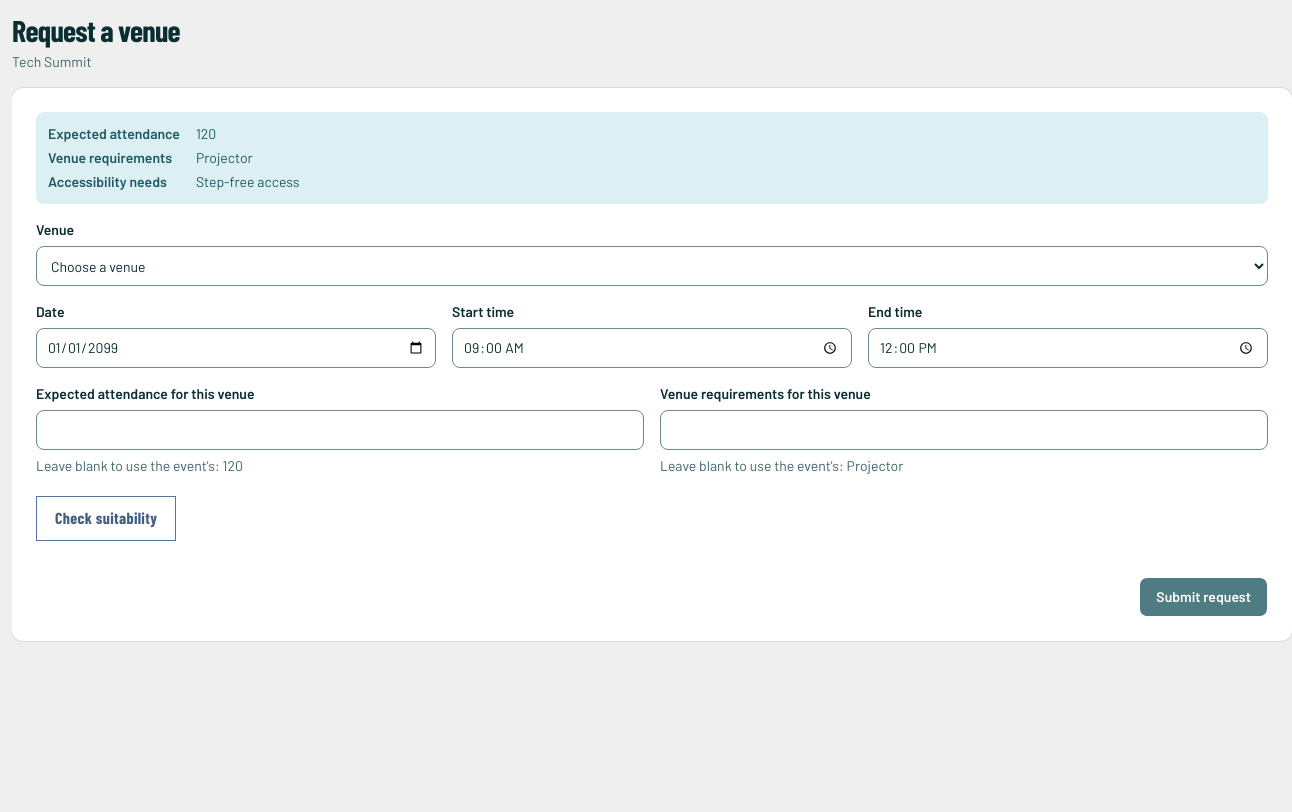
Scenario: SCRUM-98/AC2 the venue booking's own attendance and requirements (98-S6, 98-S7, 98-S12) › 98-S12 an attendance of 0 shows the shared error and is not sent
Select "Grand Hall (capacity 200)" in the dropdown labelled "Venue". click: (652, 266)
box: [36,246,1268,286]
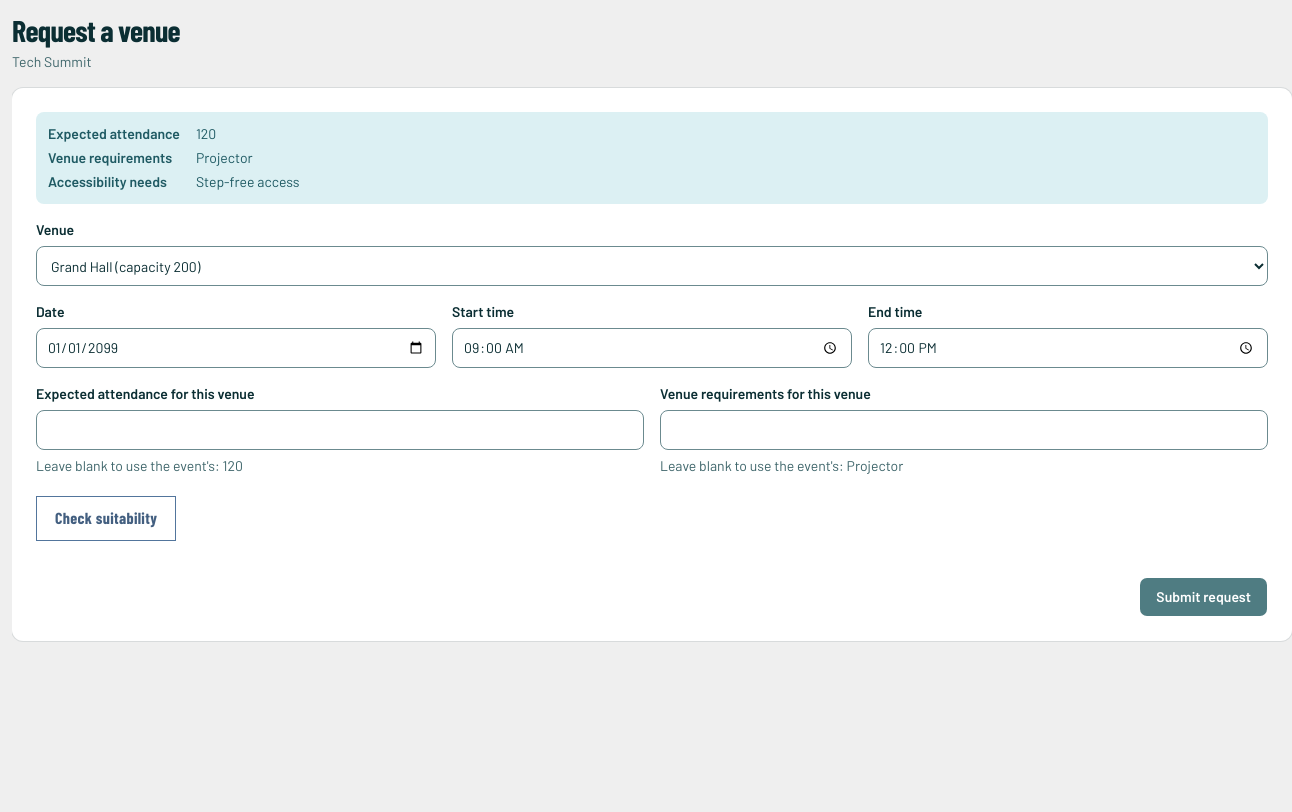
Type "0" into the number field labelled "Expected attendance for this venue". click: (340, 430)
box: [36,410,644,450]
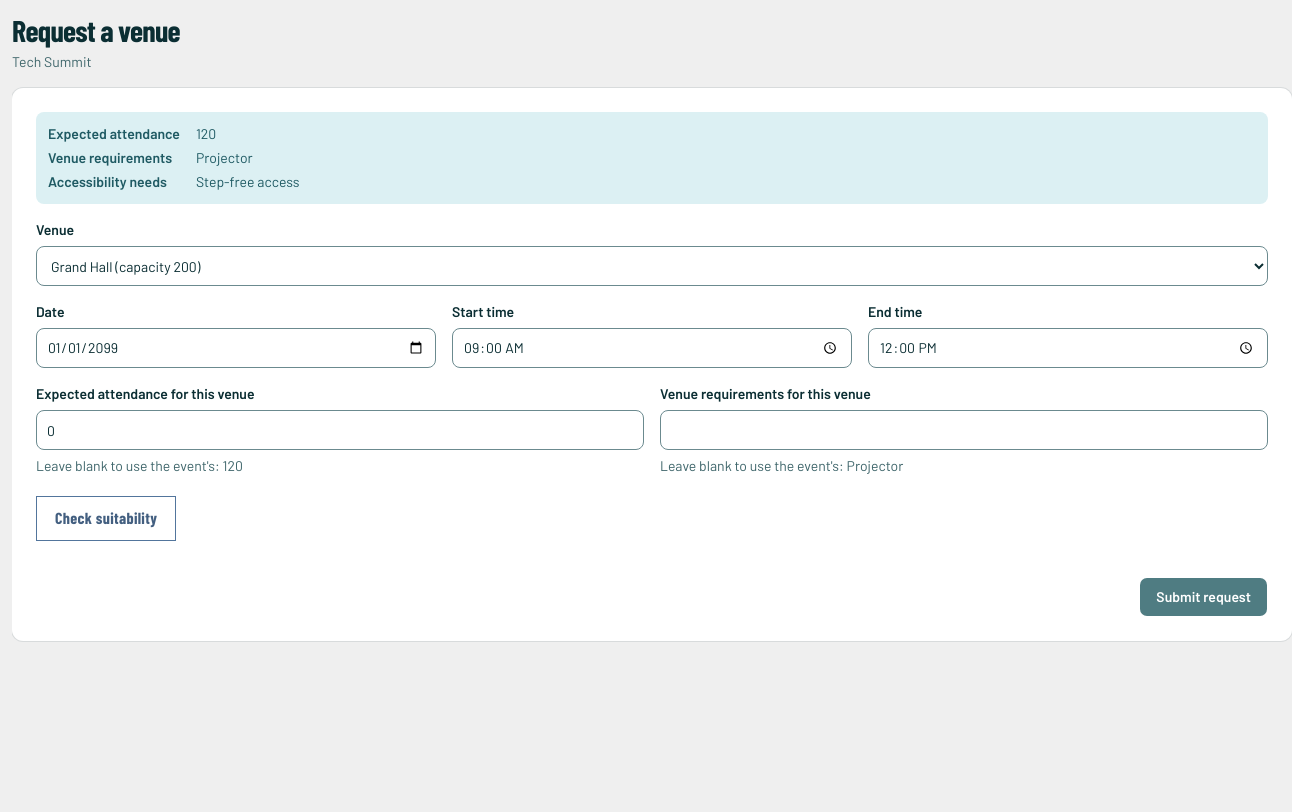
Click the button "Submit request". click: (1204, 597)
box: [1139,577,1268,617]
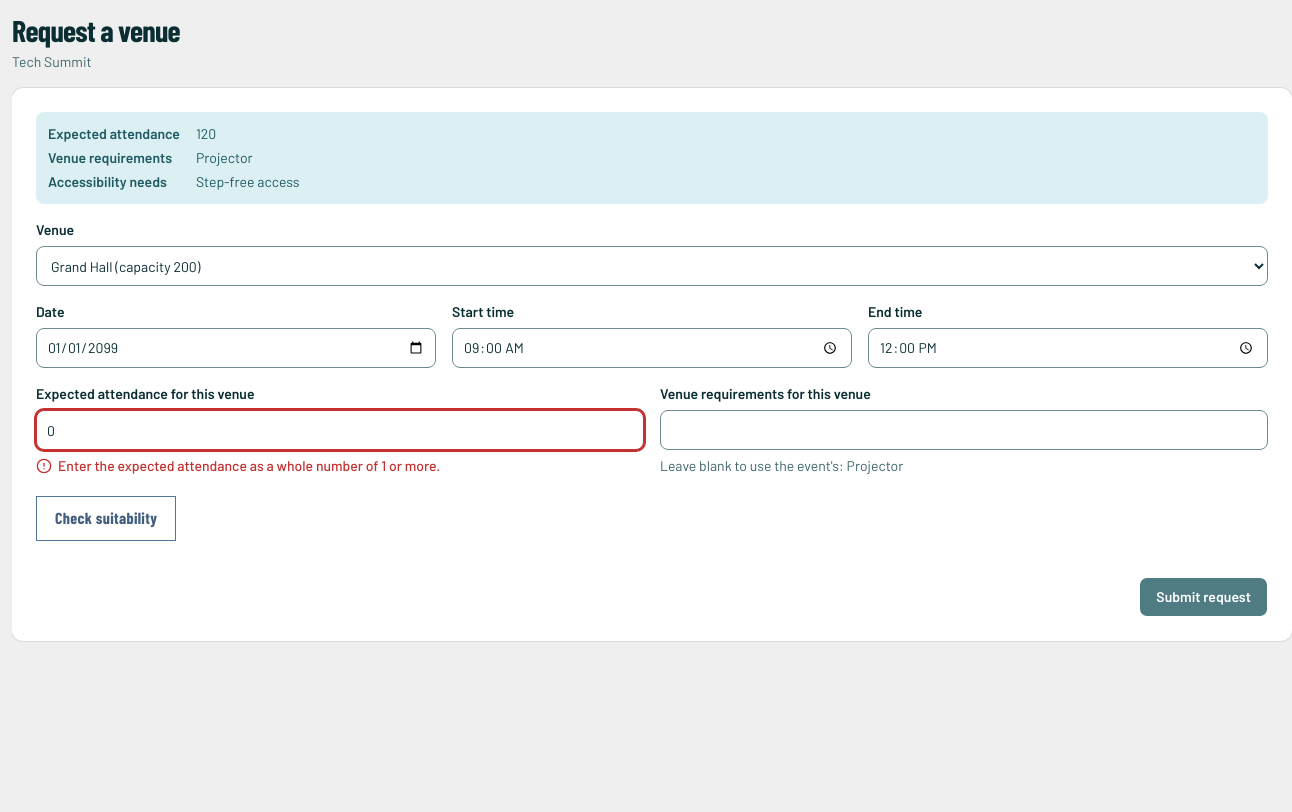
Expected: the text "Enter the expected attendance as a whole number of 1 or more." is shown, [36,457,440,474]
